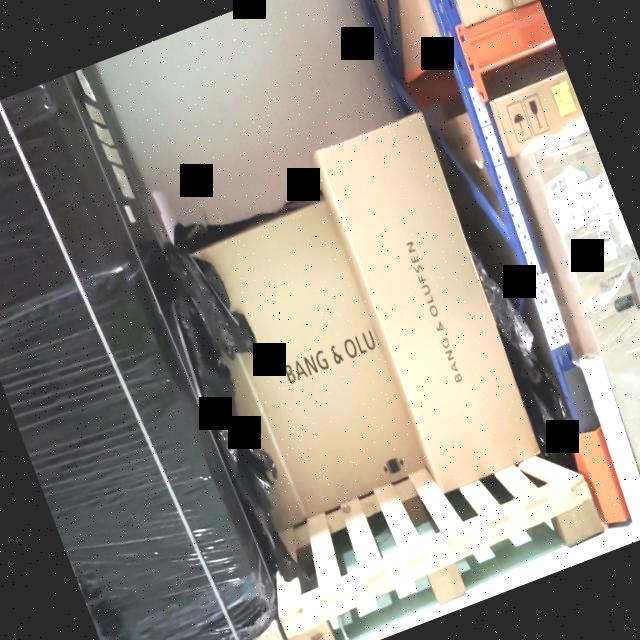box: (0, 73, 275, 640), (166, 200, 430, 532), (318, 116, 540, 488), (525, 129, 640, 468), (492, 71, 586, 151)
